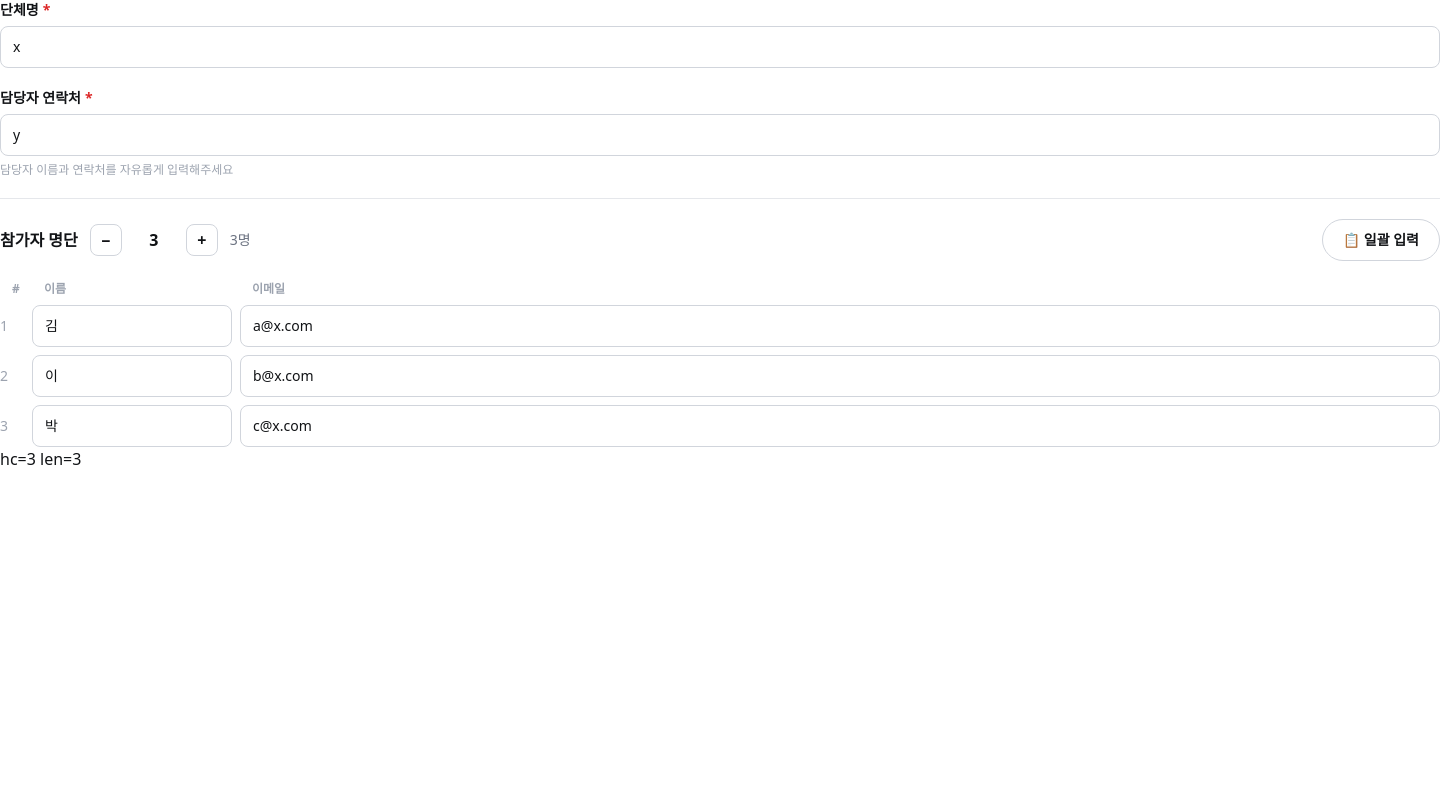
Test: GroupFields › 감소 시 마지막 행 채워져 있으면 확인 모달 노출 (D008-b)
Click the button named "감소".
click(106, 240)  # box [90,224,122,256]
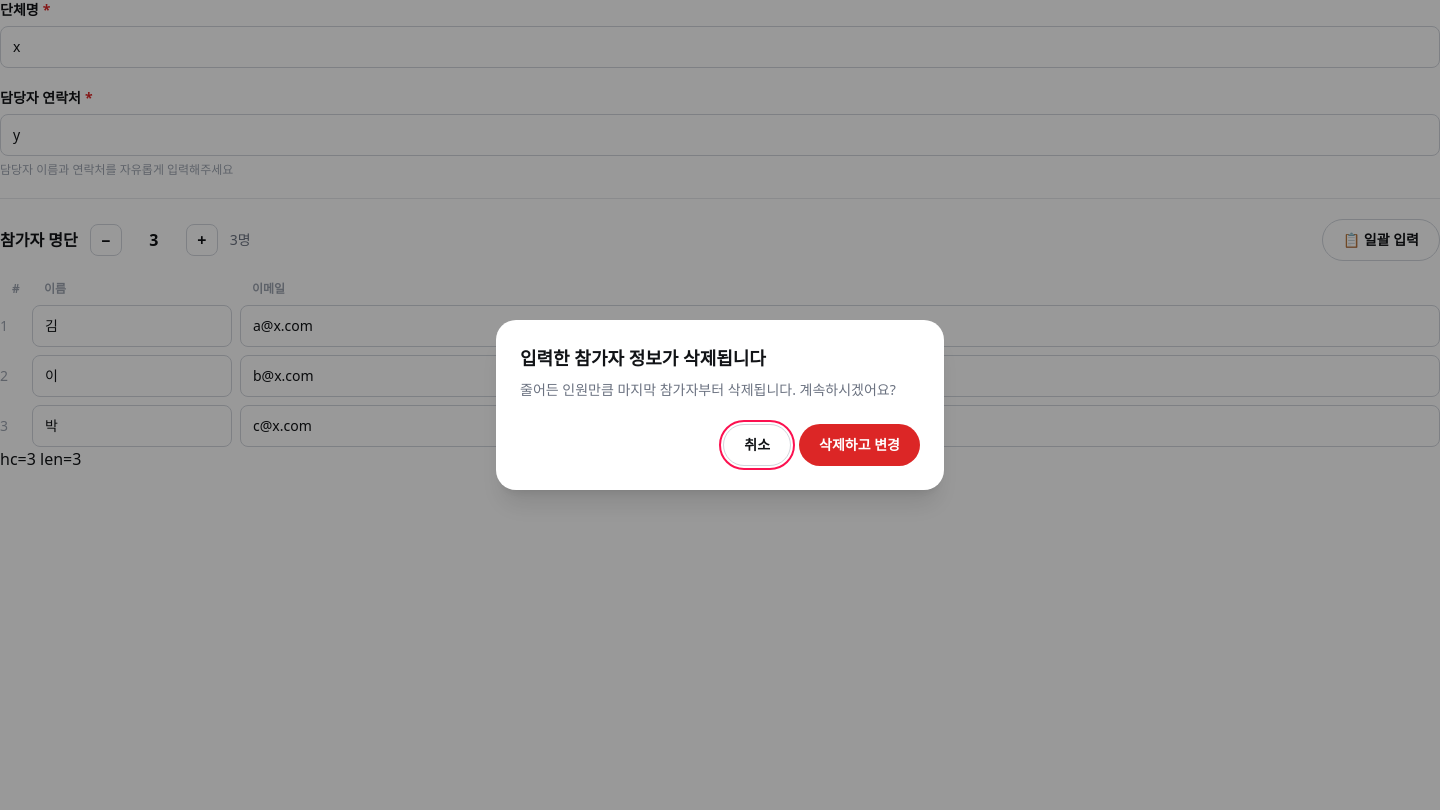
Expected: the text with test id "spy" reads "hc=3 len=3", [0,448,81,470]
Expected: the dialog is shown, [496,320,944,490]
Click the button "삭제하고 변경".
click(860, 445)  # box [799,424,920,466]
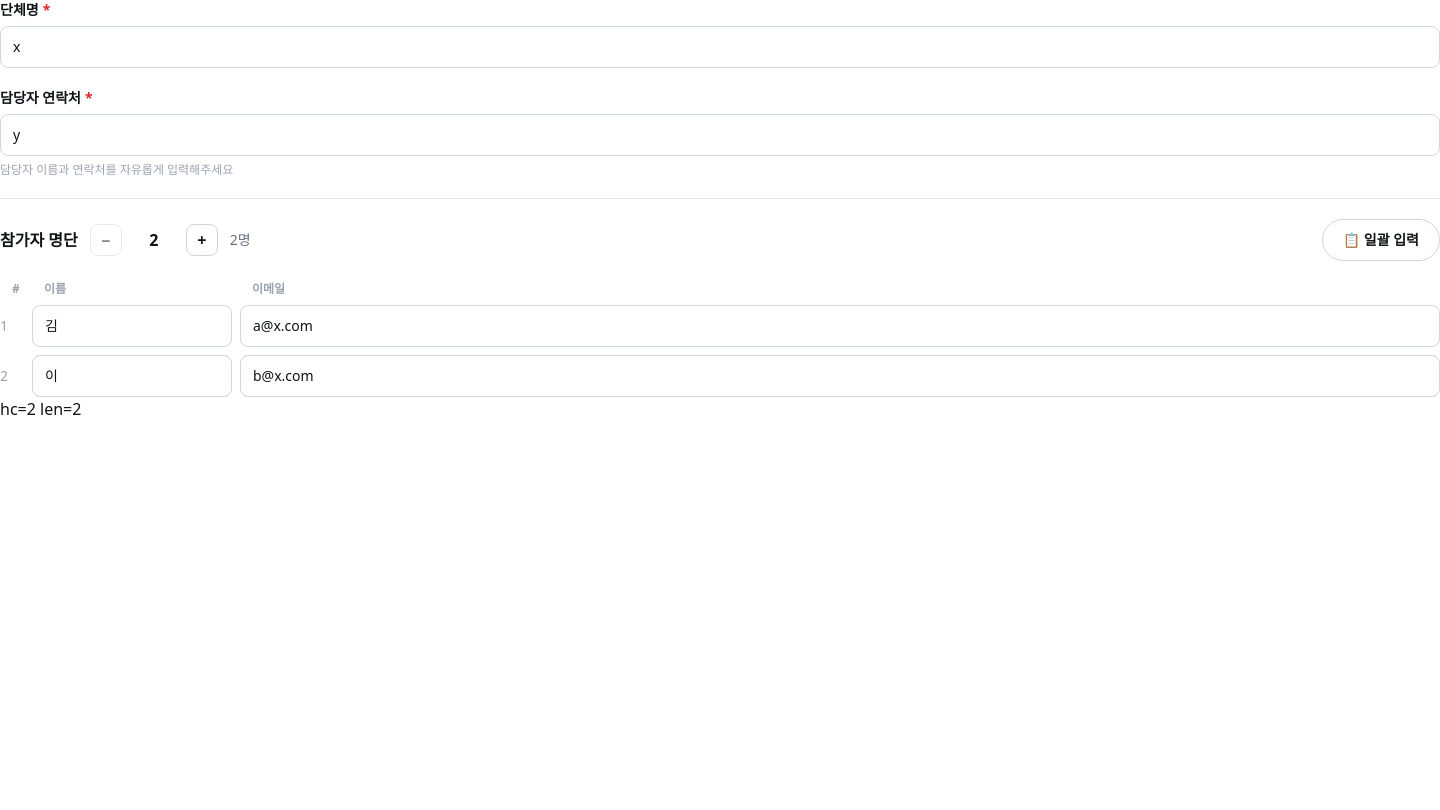
Expected: the text with test id "spy" reads "hc=2 len=2", [0,398,81,420]
